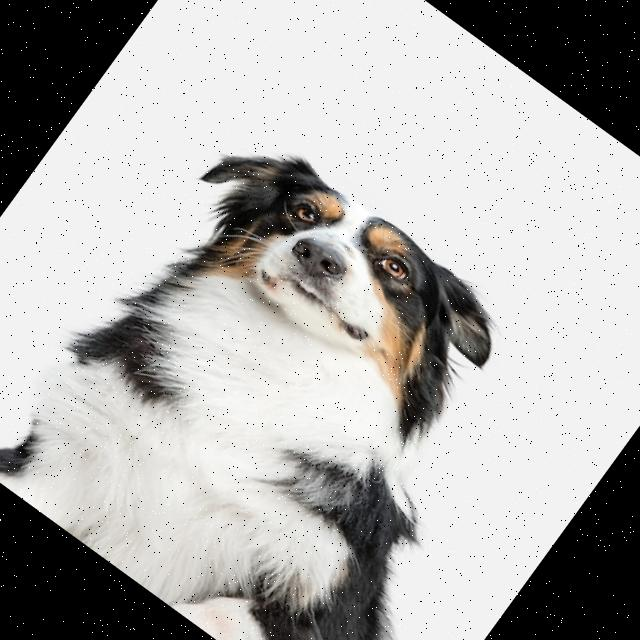Dog: (0, 108, 594, 640)
